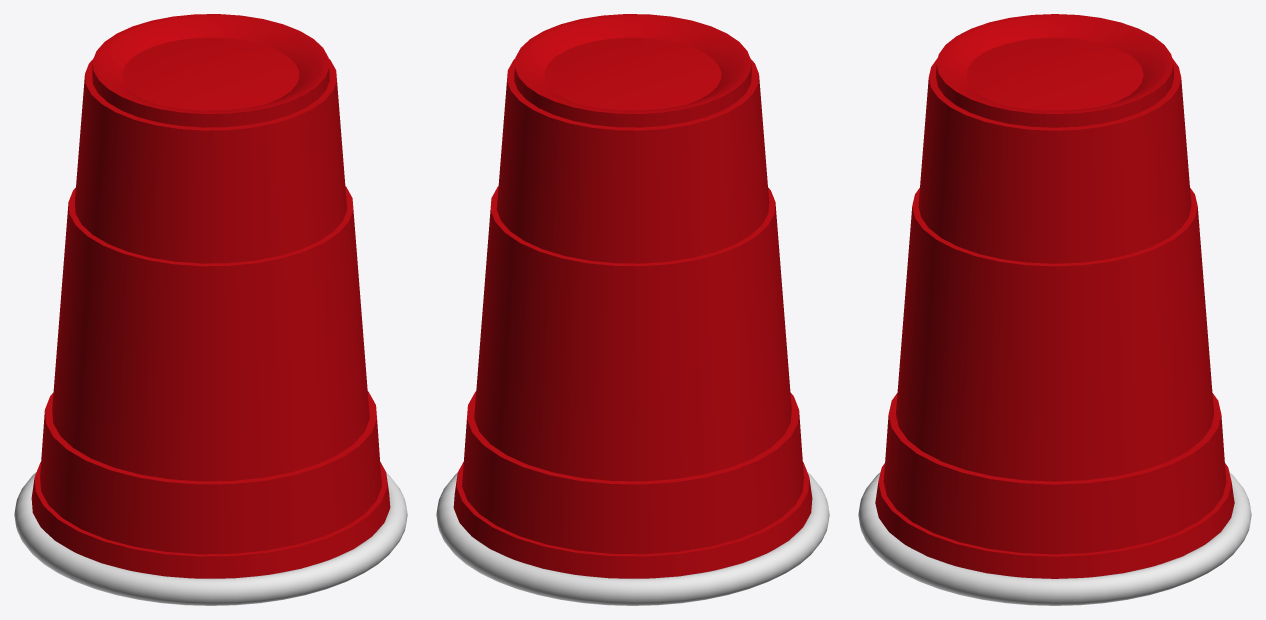
Rendered from RedSoloCup.fbx.
3 renders of one model, left to right at view 1: azimuth 30°, elevation 25°; view 2: azimuth 150°, elevation 25°; view 3: azimuth 270°, elevation 25°, orthographic.
Visible parts, largest first — view 1: Cylinder, Torus; view 2: Cylinder, Torus; view 3: Cylinder, Torus.
Part boxes in pixels (box(x1,y1,x2,y2)): Cylinder: box(31, 14, 390, 578); Torus: box(14, 472, 407, 605); Cylinder: box(453, 14, 812, 578); Torus: box(436, 472, 829, 605); Cylinder: box(875, 14, 1234, 578); Torus: box(858, 472, 1251, 605).
Size of the model in its own units: 280 by 364 by 280.
